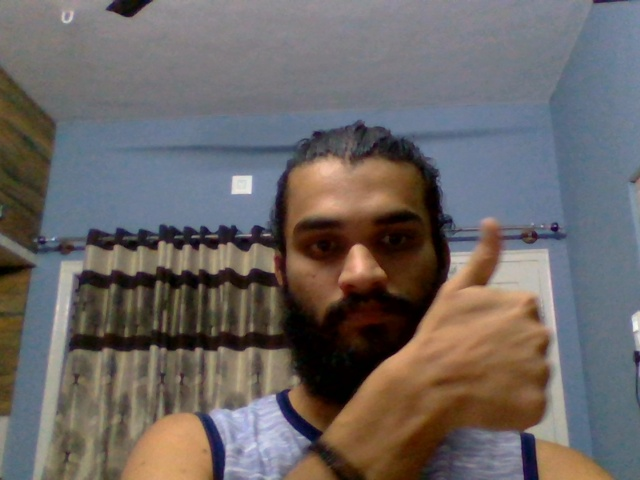ThumbsUp: (417, 216, 554, 430)
